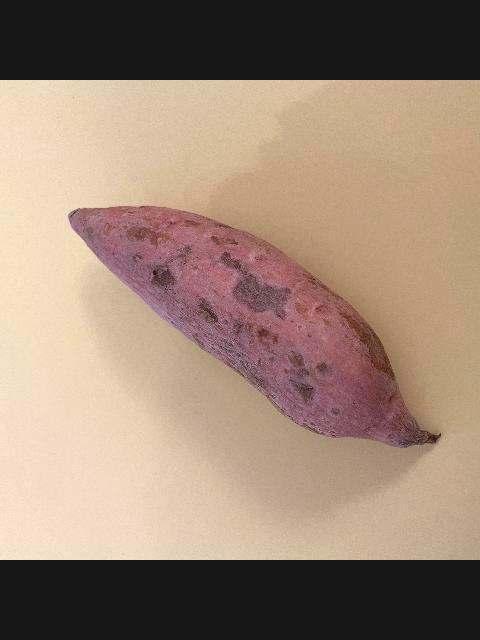sweetpotato: (64, 204, 442, 448)
